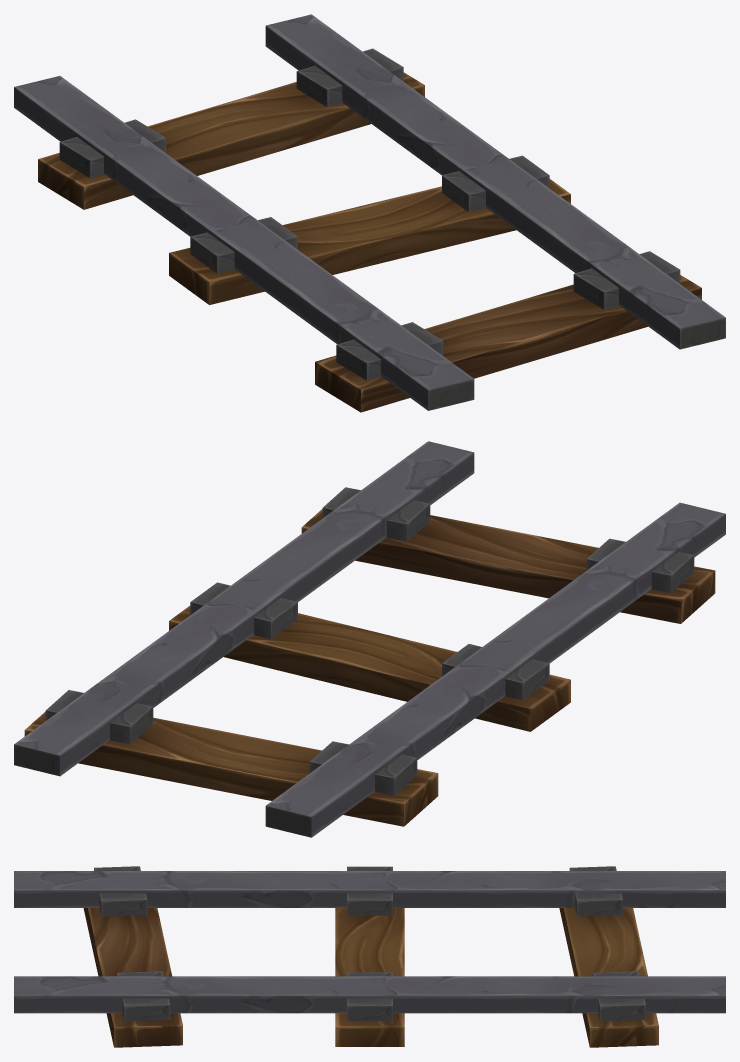
File: Railway_2.FBX
3 views of the same model, one above another, from view 1: azimuth 30°, elevation 25°; view 2: azimuth 150°, elevation 25°; view 3: azimuth 270°, elevation 25° (orthographic). The views are drawn at different scales.
Visible parts, largest first — view 1: Railway_2; view 2: Railway_2; view 3: Railway_2.
Boxes of the visible parts, bbox=[...] form: Railway_2: bbox=[14, 14, 725, 412]; Railway_2: bbox=[14, 441, 725, 837]; Railway_2: bbox=[14, 866, 725, 1047].
Bounding box in the file's own units: 1020 × 117 × 2000.
